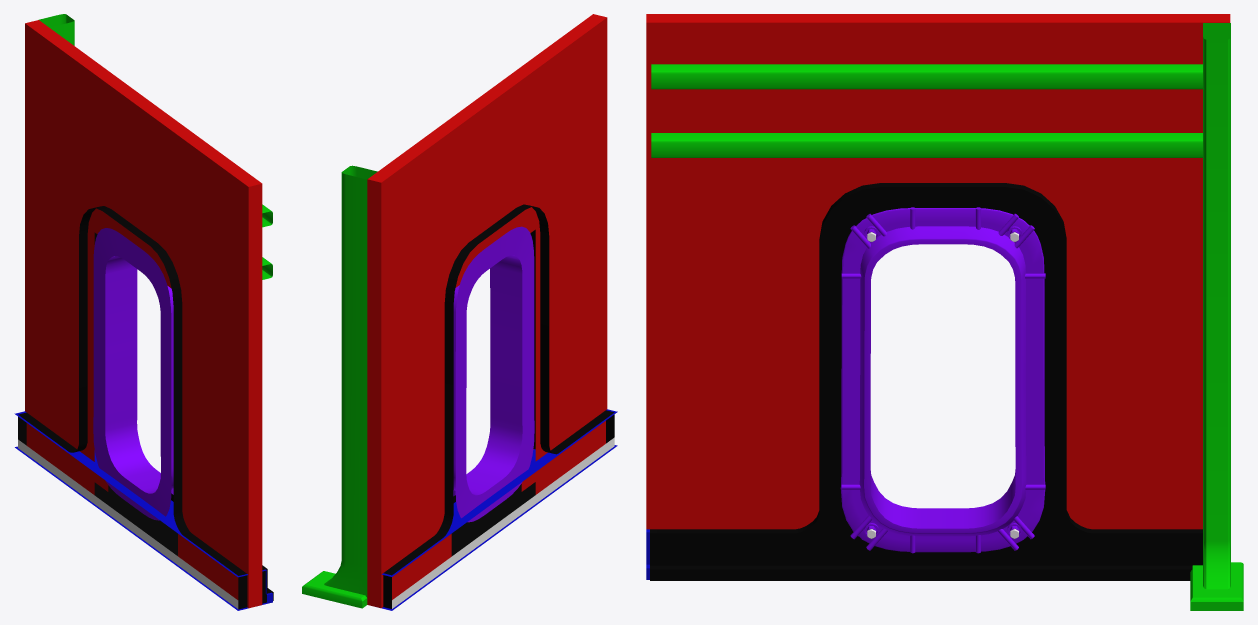
The model's file is BulkheadDoorFrameWall.fbx.
3 renders of one model, left to right at view 1: azimuth 30°, elevation 25°; view 2: azimuth 150°, elevation 25°; view 3: azimuth 270°, elevation 25°, orthographic. The views are drawn at different scales.
Visible parts, largest first — view 1: WallBlankMod3_3m:pCube4.009; view 2: WallBlankMod3_3m:pCube4.009; view 3: WallBlankMod3_3m:pCube4.009.
Boxes of the visible parts, x1,y1,x2,y2 form: WallBlankMod3_3m:pCube4.009: [14, 14, 273, 610]; WallBlankMod3_3m:pCube4.009: [302, 14, 617, 610]; WallBlankMod3_3m:pCube4.009: [646, 14, 1243, 610].
Bounding box in the file's own units: 72.64 × 348 × 342.
